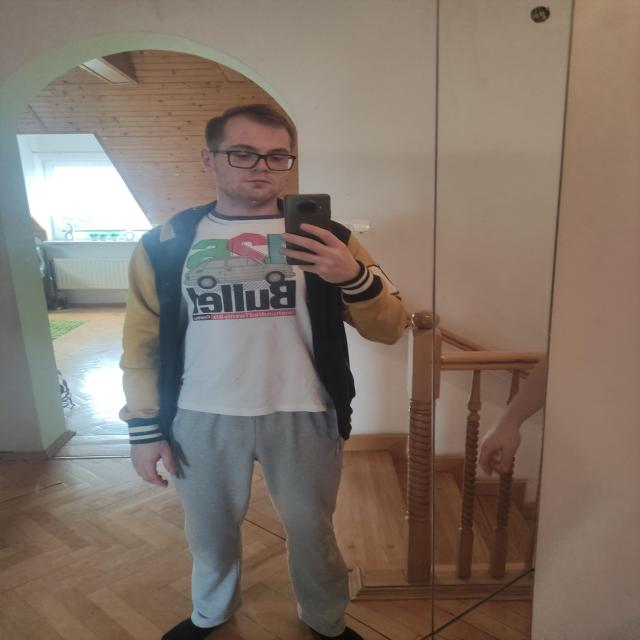Tshirt: (135, 208, 354, 416)
pants: (167, 406, 353, 636)
sweater: (119, 193, 405, 450)
